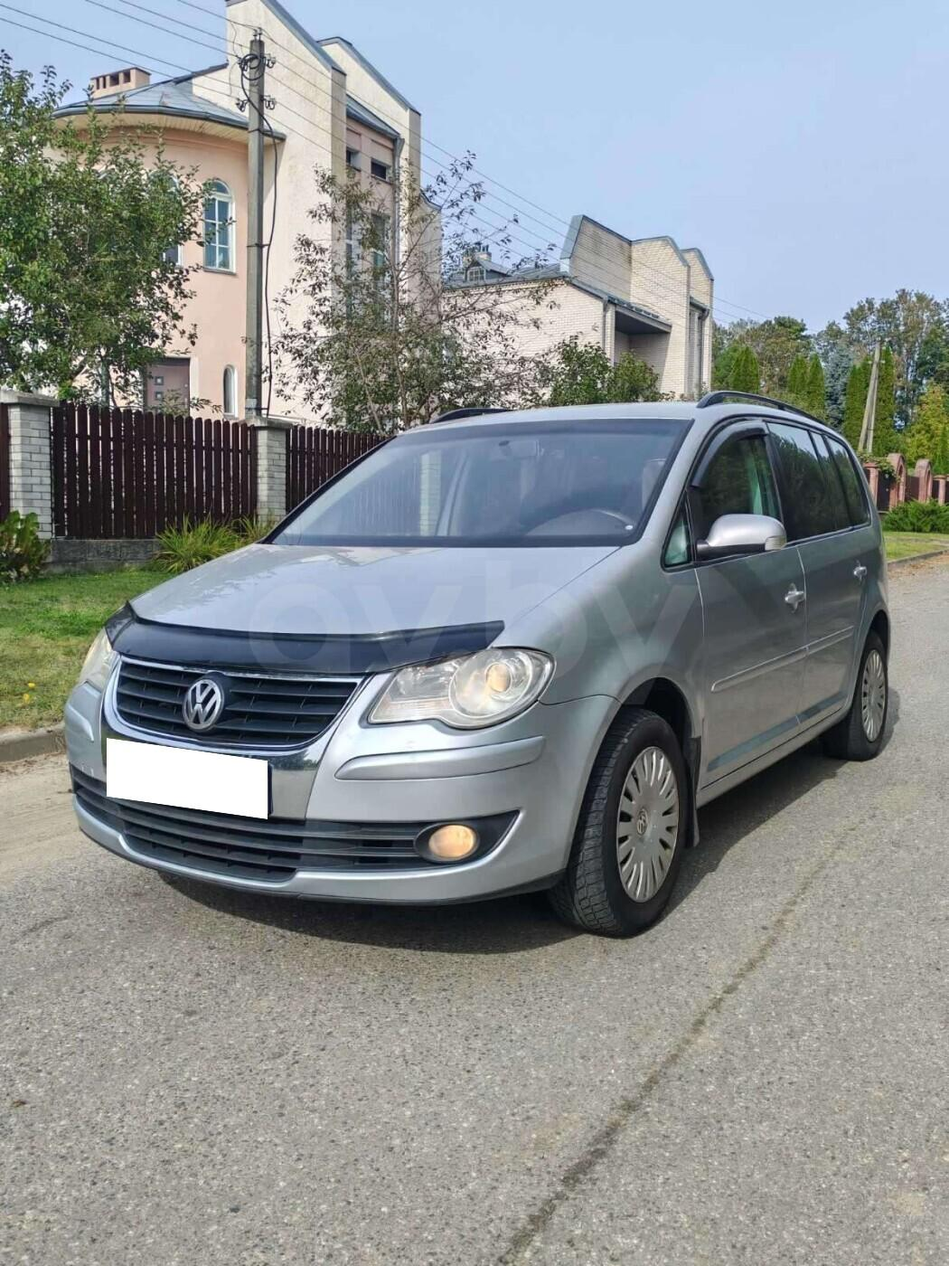Touran_2006-2010: (56, 398, 897, 942)
